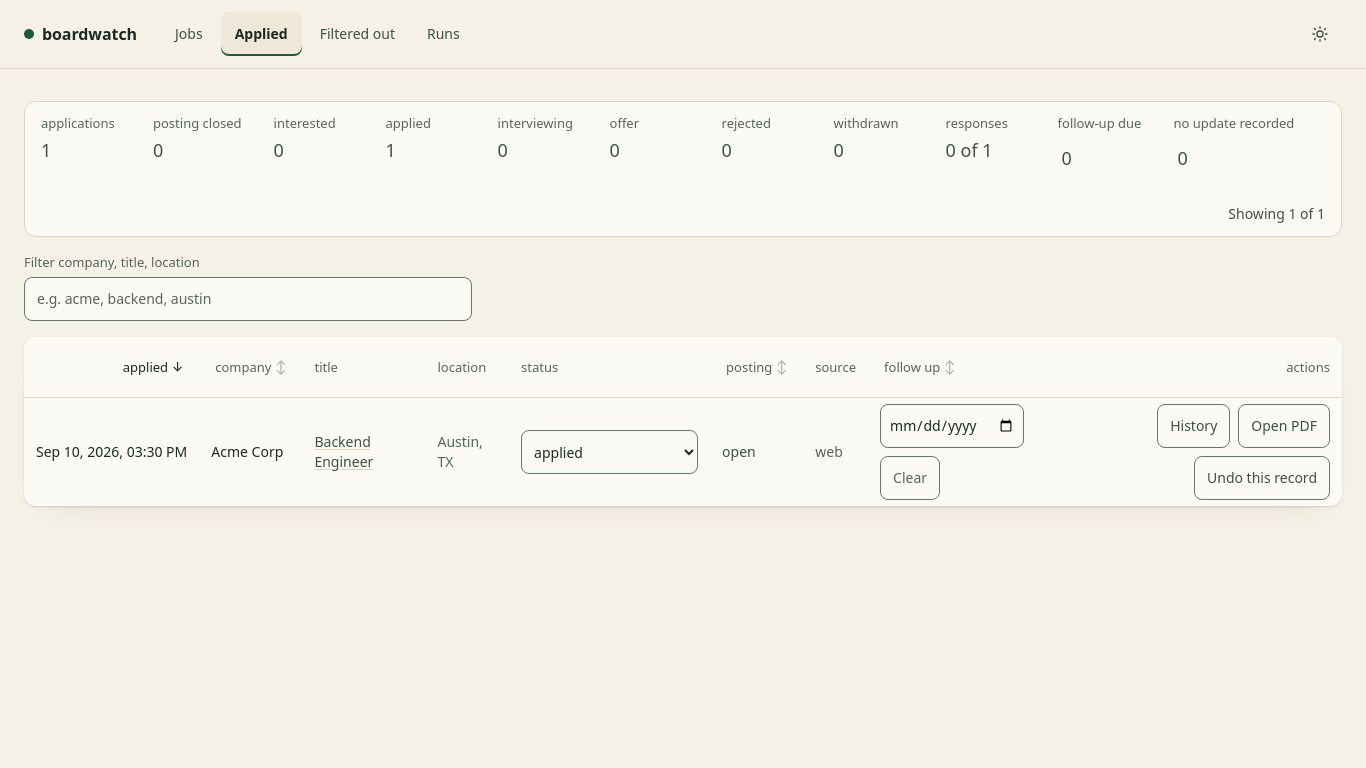
Test: the application lifecycle › lets only the newest ledger read land when an older one answers late
The image size is (1366, 768).
Click the button with aria-label "History of Acme Corp — Backend Engineer".
click(1194, 426)  # box left=1157, top=404, right=1230, bottom=448
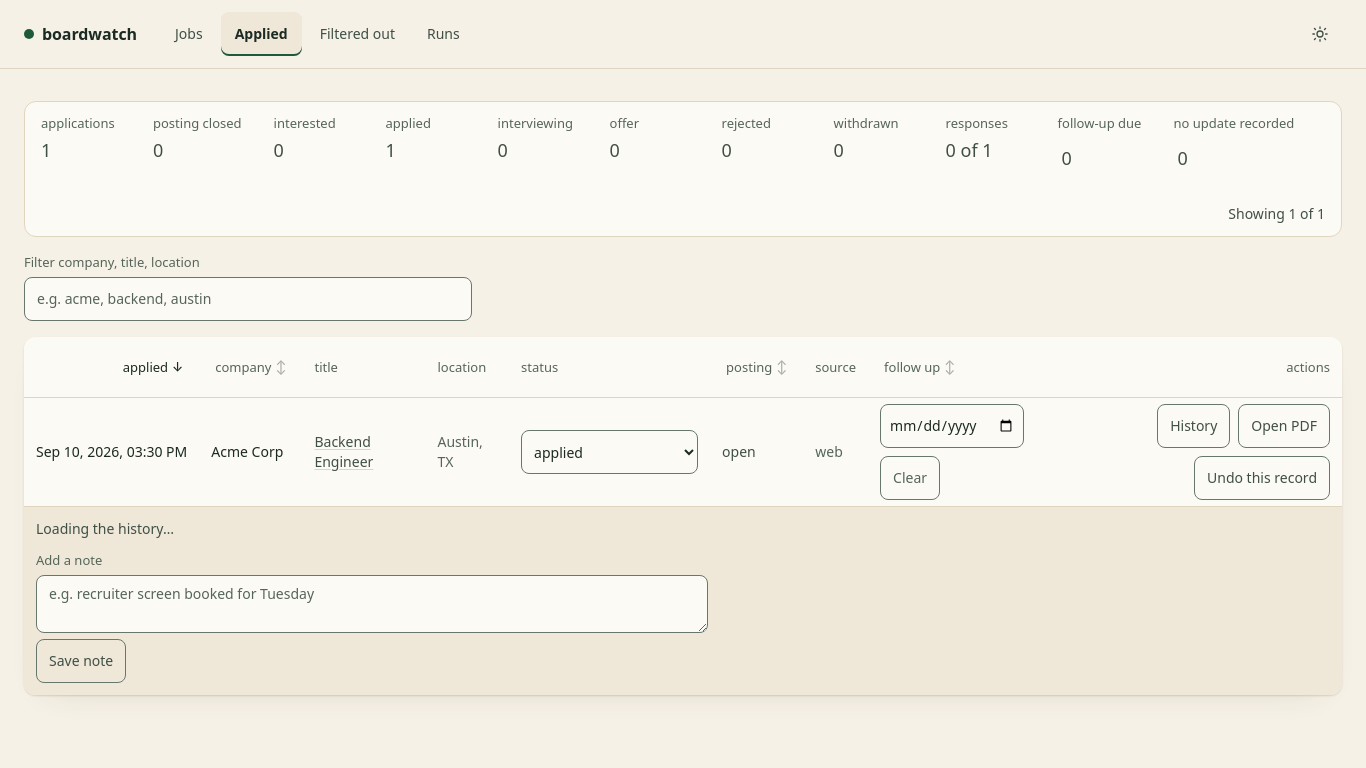
Select "interviewing" in the dropdown named "Status of Acme Corp — Backend Engineer" at (610, 452), box left=521, top=430, right=698, bottom=474
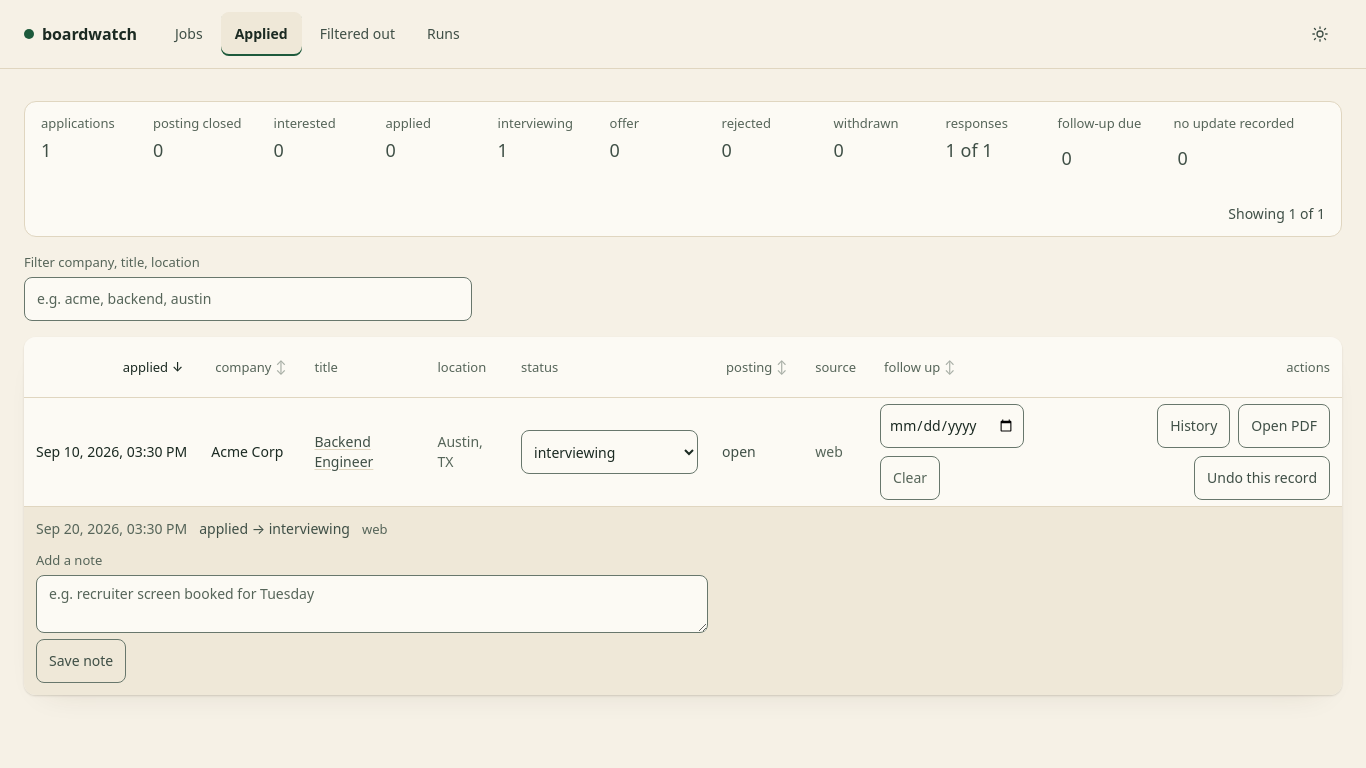
Check: the text "applied → interviewing" is shown, box left=199, top=519, right=350, bottom=539
